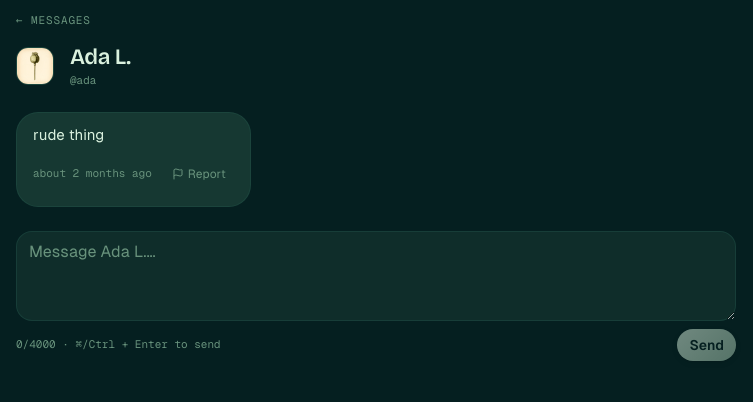
Test case: ConversationPage (todo 339) › reports another member’s message with a reason and optional detail, then shows Reported
Expected: the text "rude thing" is shown, 33,126 -> 104,143
Step 1. Click the button "Report" → {"x": 199, "y": 174}, box 164,152 -> 234,196
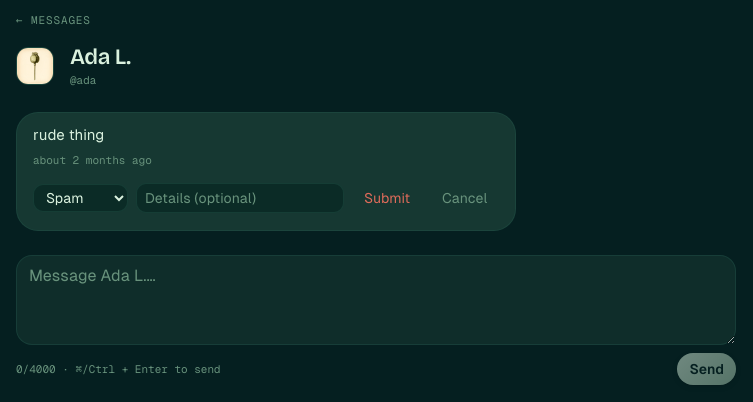
Step 2. Select "Abuse" in the dropdown named "Report reason" → {"x": 80, "y": 198}, box 33,184 -> 128,212
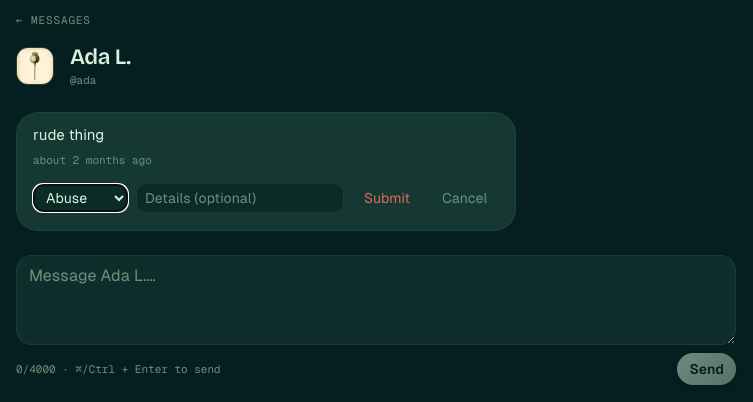
Step 3. Type "name-calling" into the field labelled "Details (optional)" → {"x": 240, "y": 198}, box 136,183 -> 344,213
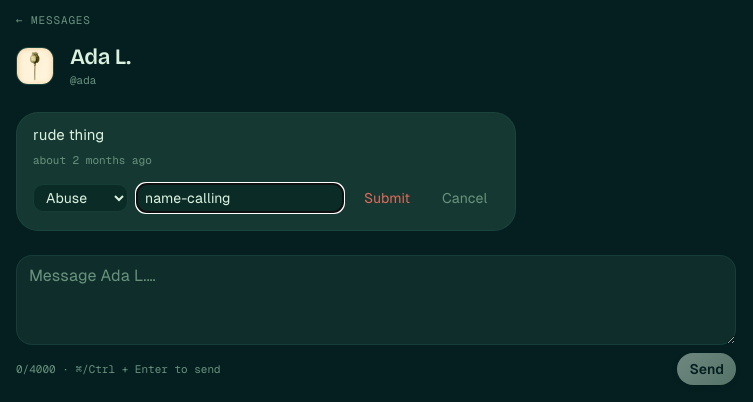
Step 4. Click the button "Submit" → {"x": 387, "y": 198}, box 352,176 -> 422,220
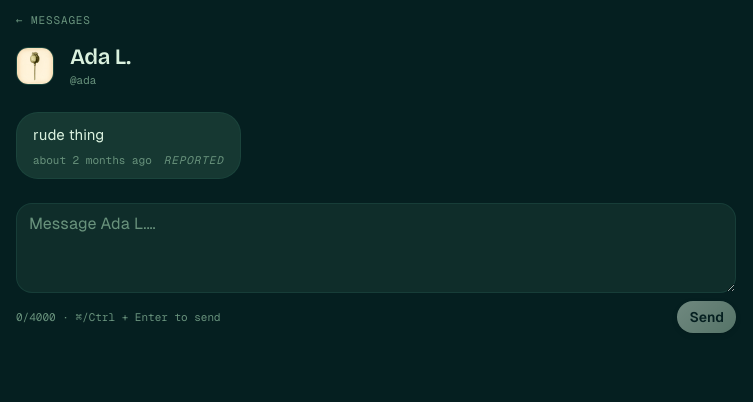
Expected: the field labelled "Report reason" is not shown
Now the text "Reported" is shown, box 164,152 -> 224,168
